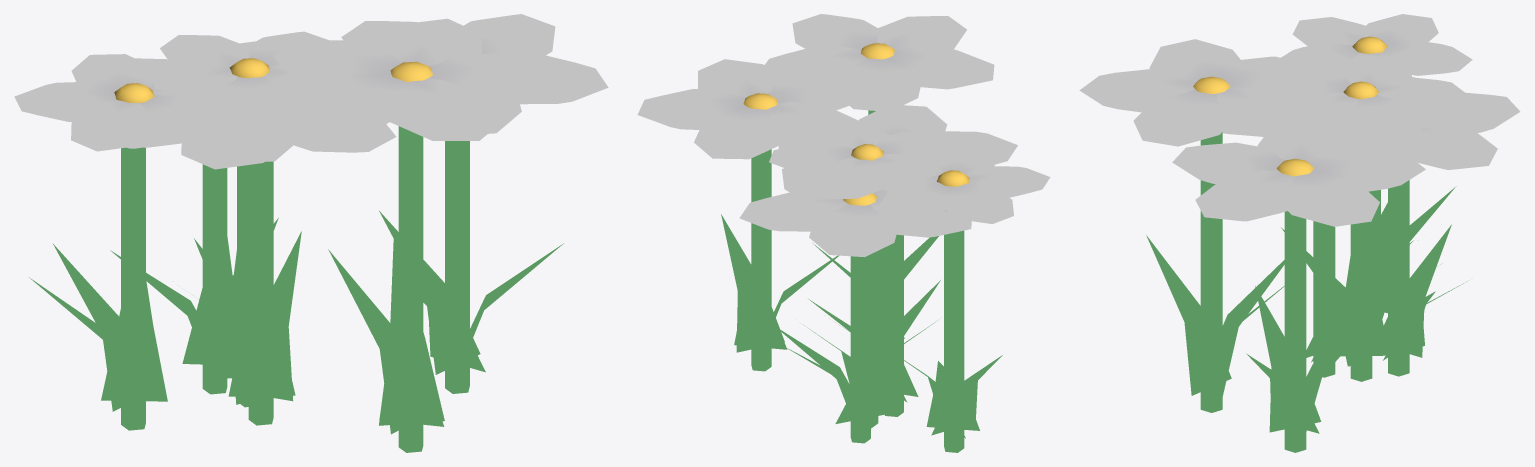
File: flowers.glb
3 views of the same model, side by side, from view 1: azimuth 30°, elevation 25°; view 2: azimuth 150°, elevation 25°; view 3: azimuth 270°, elevation 25° (orthographic). The views are drawn at different scales.
Parts seen in each view (by area): view 1: flowers:mesh; view 2: flowers:mesh; view 3: flowers:mesh.
Part boxes in pixels (x1,y1,x2,y2): flowers:mesh: [14, 14, 608, 452]; flowers:mesh: [637, 14, 1050, 452]; flowers:mesh: [1079, 14, 1520, 452].
Bounding box in the file's own units: 0.4255 × 0.3145 × 0.3832.
